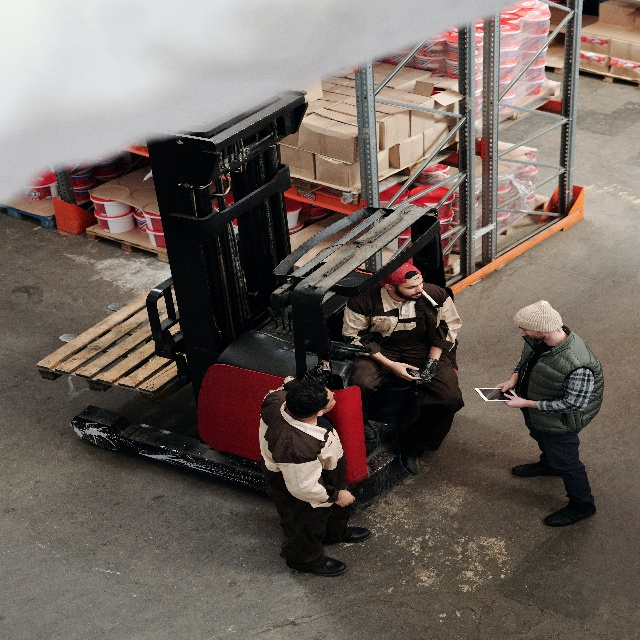Guantes: (419, 355, 439, 384), (300, 368, 330, 386), (310, 363, 323, 377)
Sin_guantes: (392, 360, 421, 381), (334, 490, 355, 508), (503, 392, 525, 409), (494, 380, 515, 392)
